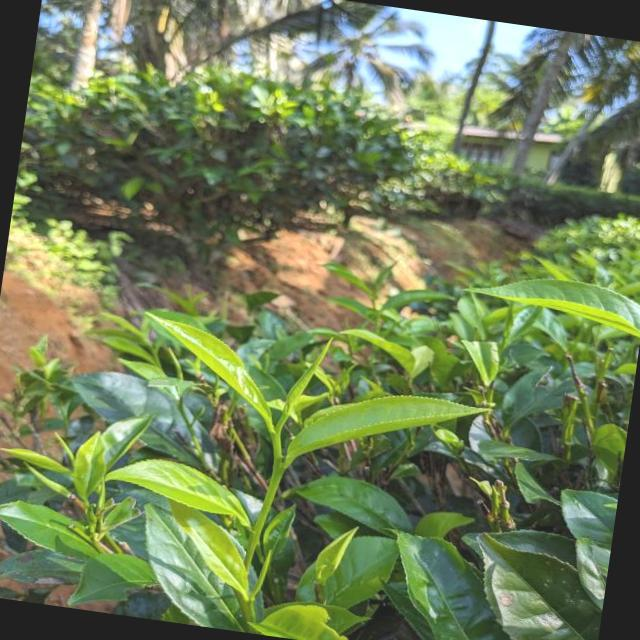Stem: (272, 429, 280, 440)
